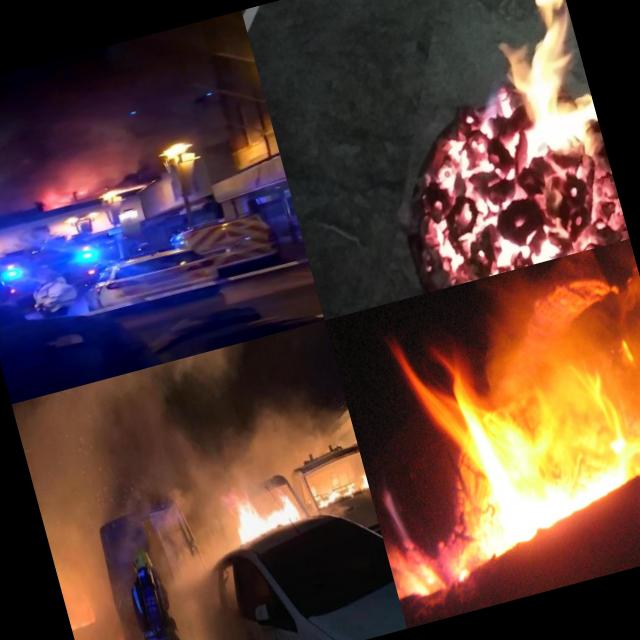fire: (326, 257, 640, 610), (473, 0, 629, 259), (377, 83, 549, 293), (230, 482, 310, 542), (24, 174, 92, 216), (306, 472, 340, 511), (334, 464, 370, 499)
smoke: (11, 359, 216, 540), (197, 384, 367, 520), (0, 92, 145, 217), (593, 238, 640, 487)
